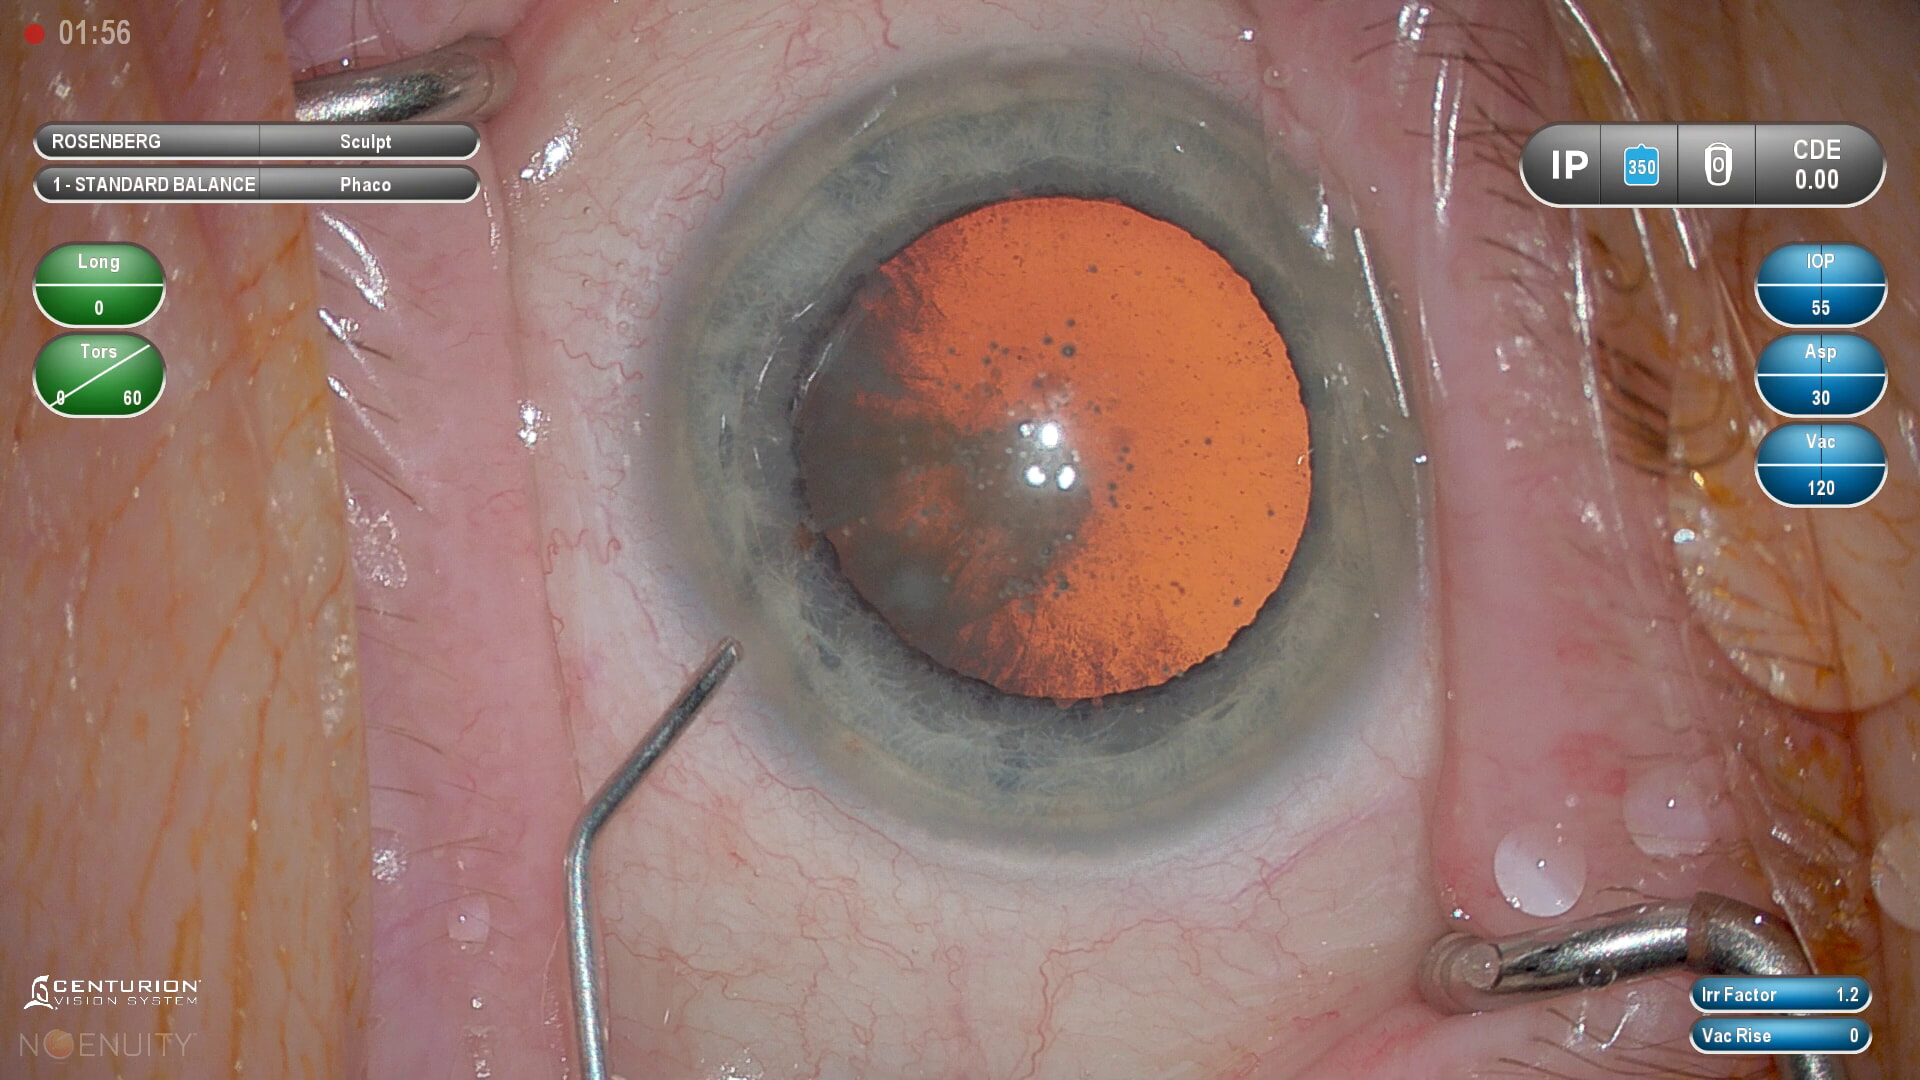iris: (681, 46, 1405, 850)
pupil: (786, 202, 1328, 704)
